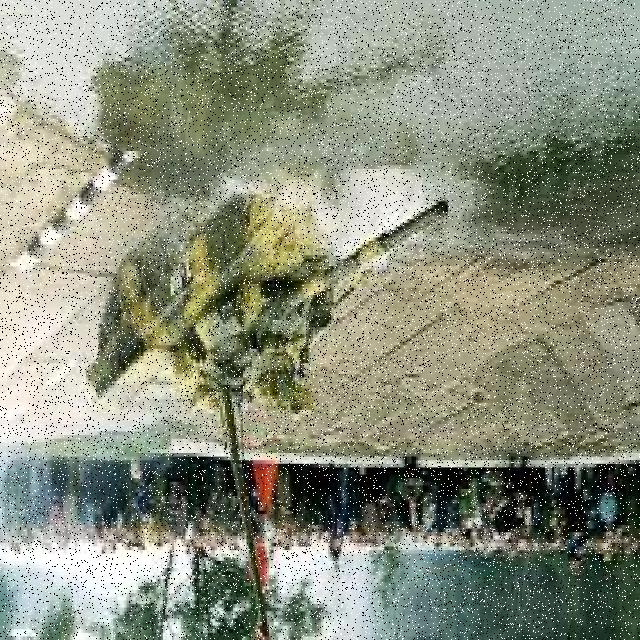MIL_MBT: (89, 210, 360, 448)
